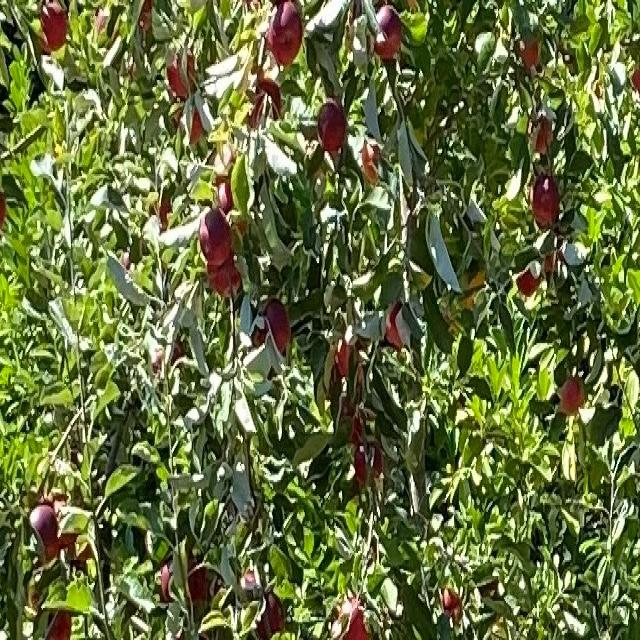100-_ripeness: (349, 409, 384, 482), (270, 2, 302, 62), (259, 298, 290, 354), (200, 210, 231, 265), (250, 78, 281, 132), (160, 556, 197, 601), (30, 503, 59, 557), (532, 174, 560, 224), (318, 101, 346, 151), (40, 0, 69, 48), (169, 48, 194, 98), (340, 597, 369, 640), (377, 5, 400, 57), (258, 590, 283, 636), (210, 254, 240, 288), (43, 604, 71, 640), (180, 103, 204, 139), (517, 261, 542, 295), (389, 301, 407, 348), (533, 114, 554, 153), (336, 333, 354, 375), (563, 375, 582, 411), (520, 36, 540, 66)
